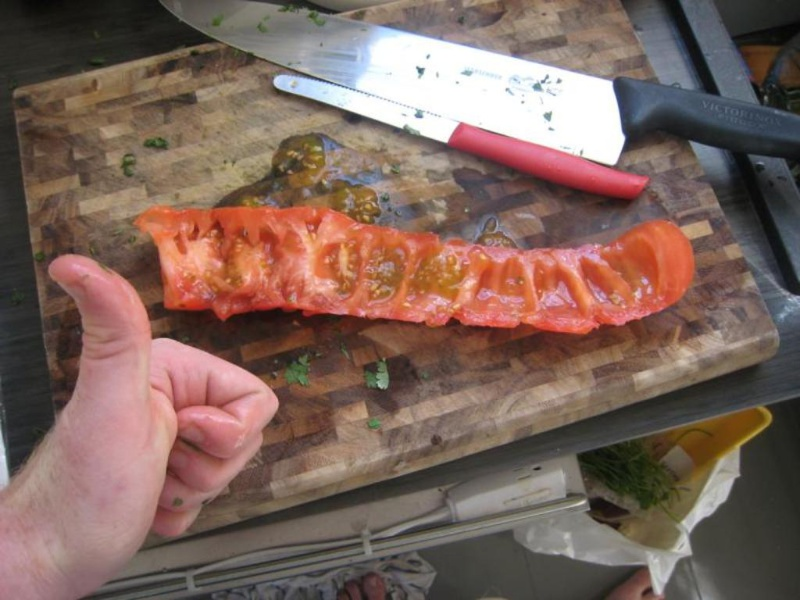knife: (153, 3, 799, 199)
